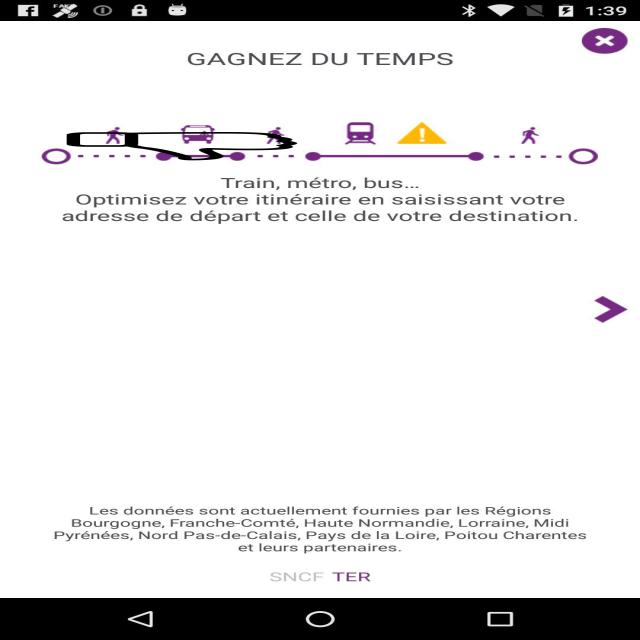obstruction: (64, 132, 300, 160)
